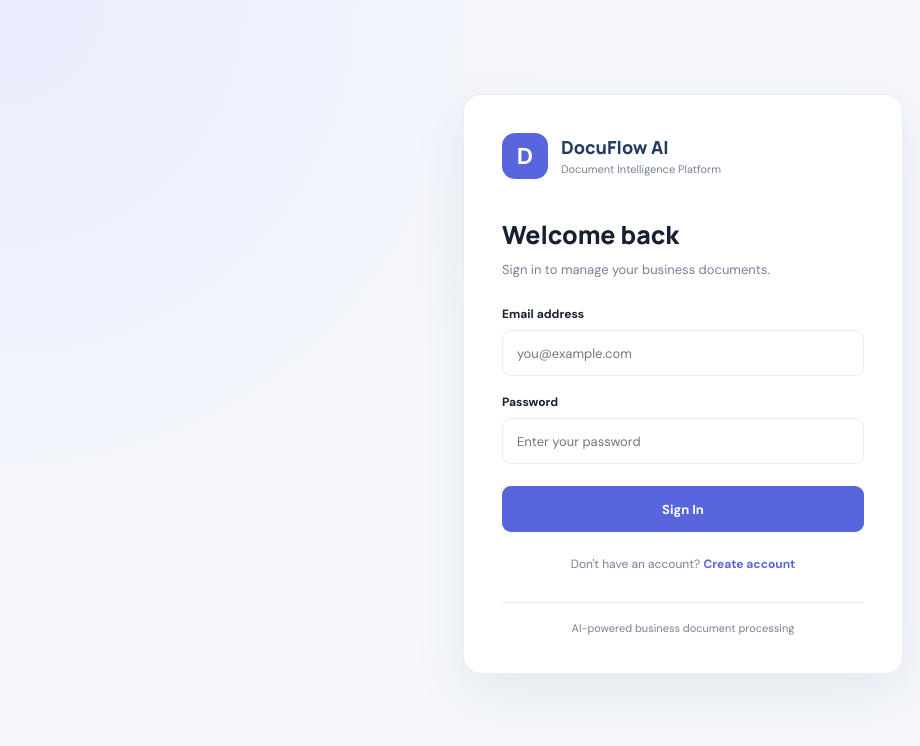
Test case: AuthScreen › clears password fields and errors when switching modes
Type "test@example.com" into the field labelled "Email address" at (683,353), box [502,330,864,376]
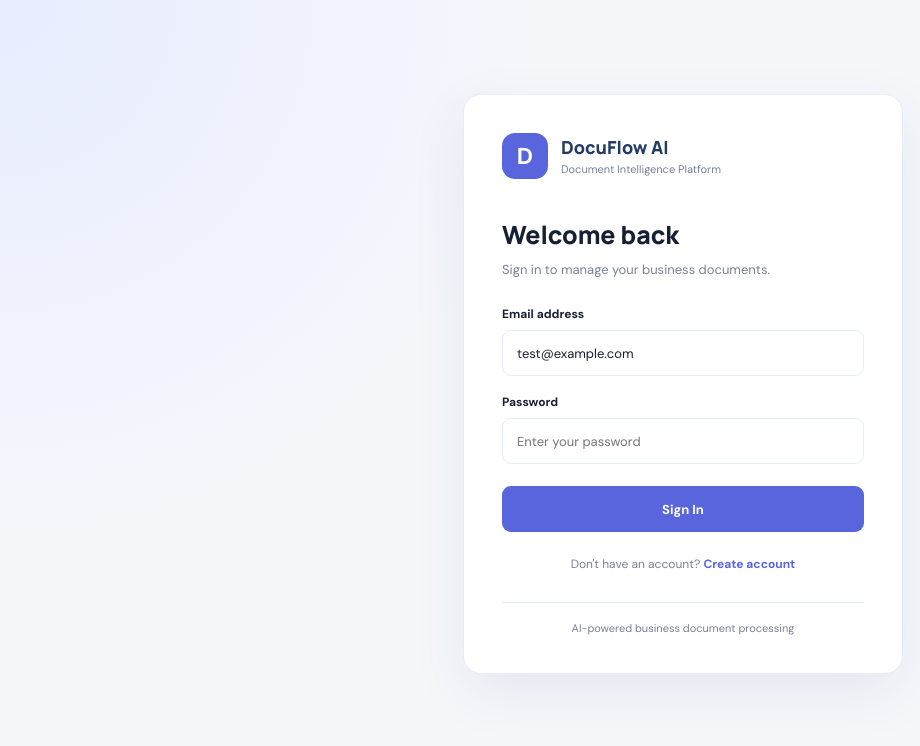
Type "wrongpassword" into the password field labelled "Password" at (683,441), box [502,418,864,464]
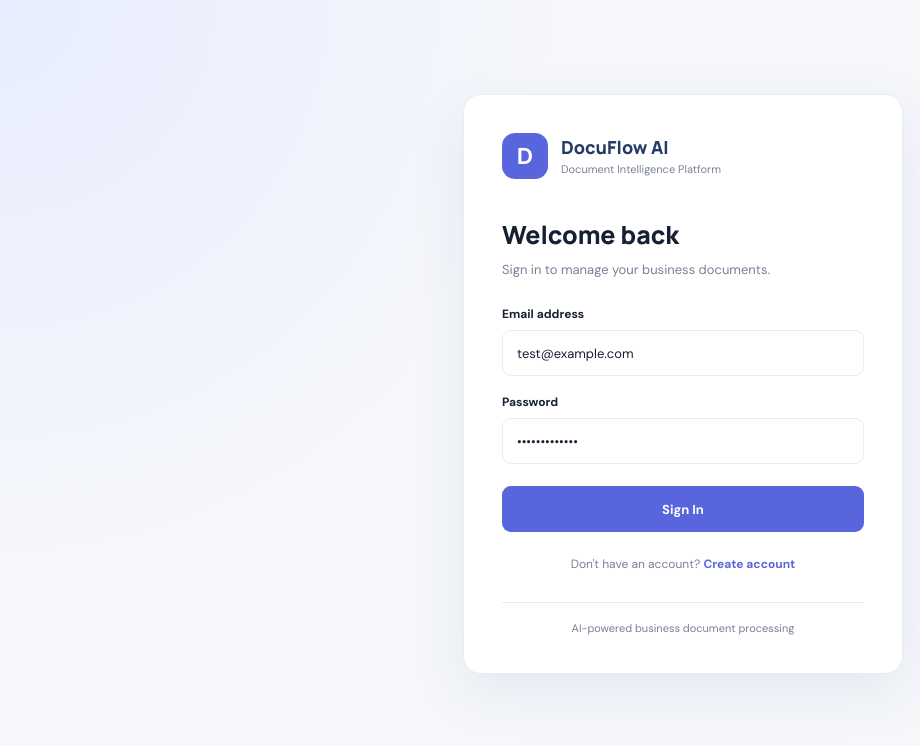
Click the button "Sign In" at (683,509), box [502,486,864,532]
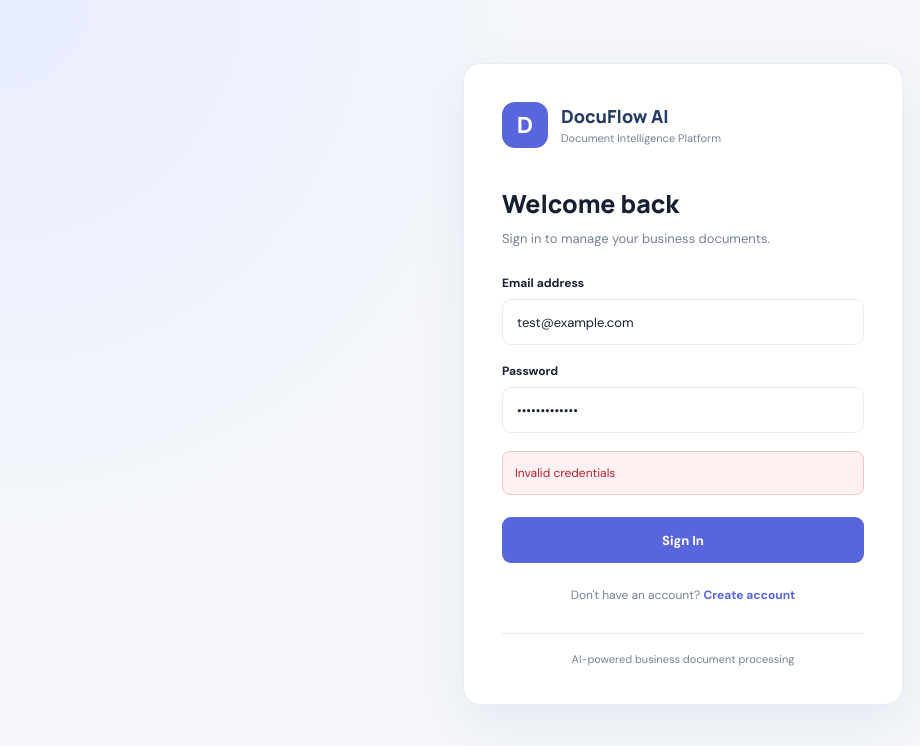
expect the text "Invalid credentials" is shown: met, box [502,451,864,495]
Click the button "Create account" at (749,595), box [703,587,795,603]
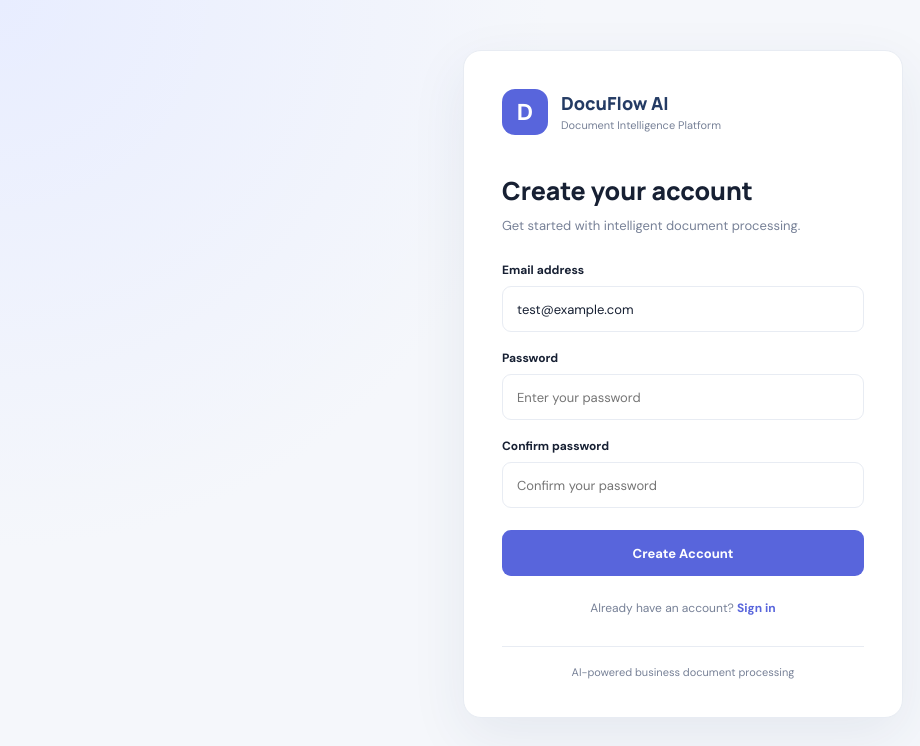
expect the password field labelled "Password" is empty: met, box [502,374,864,420]
expect the password field labelled "Confirm password" is empty: met, box [502,462,864,508]
expect the text "Invalid credentials" is gone: met
